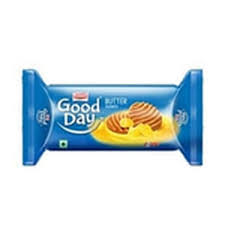gooday-small: (25, 72, 201, 164)
